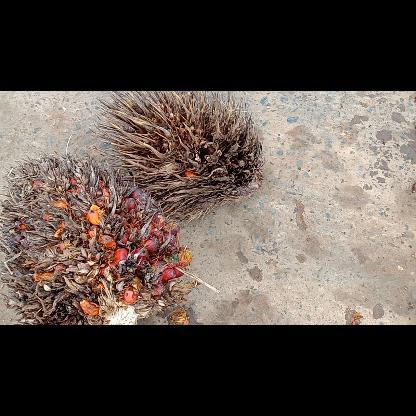Janjang kosong: (90, 91, 262, 221)
Terlalu masak: (0, 151, 217, 325)
